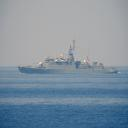Fragata: (18, 36, 120, 76)
